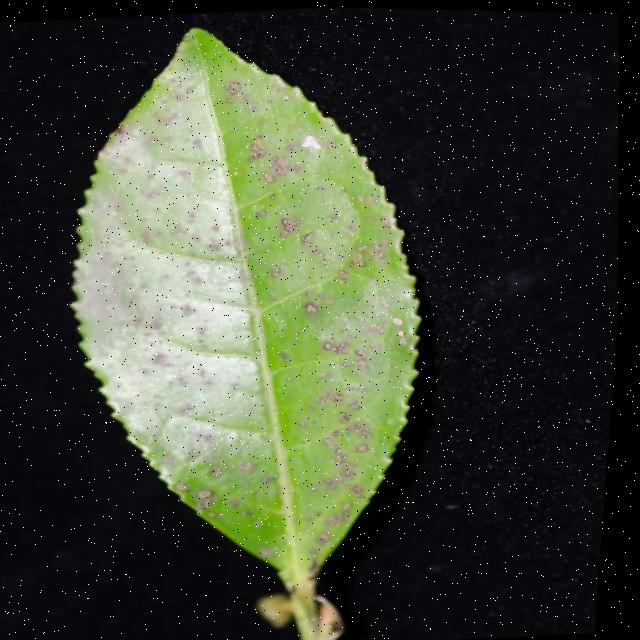Tea red rust: (48, 54, 444, 544)
